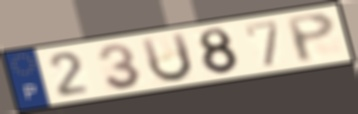2: (49, 50, 93, 99)
3: (96, 41, 144, 92)
7: (242, 18, 282, 70)
8: (196, 26, 241, 76)
P: (283, 10, 338, 65)
U: (138, 30, 196, 85)
